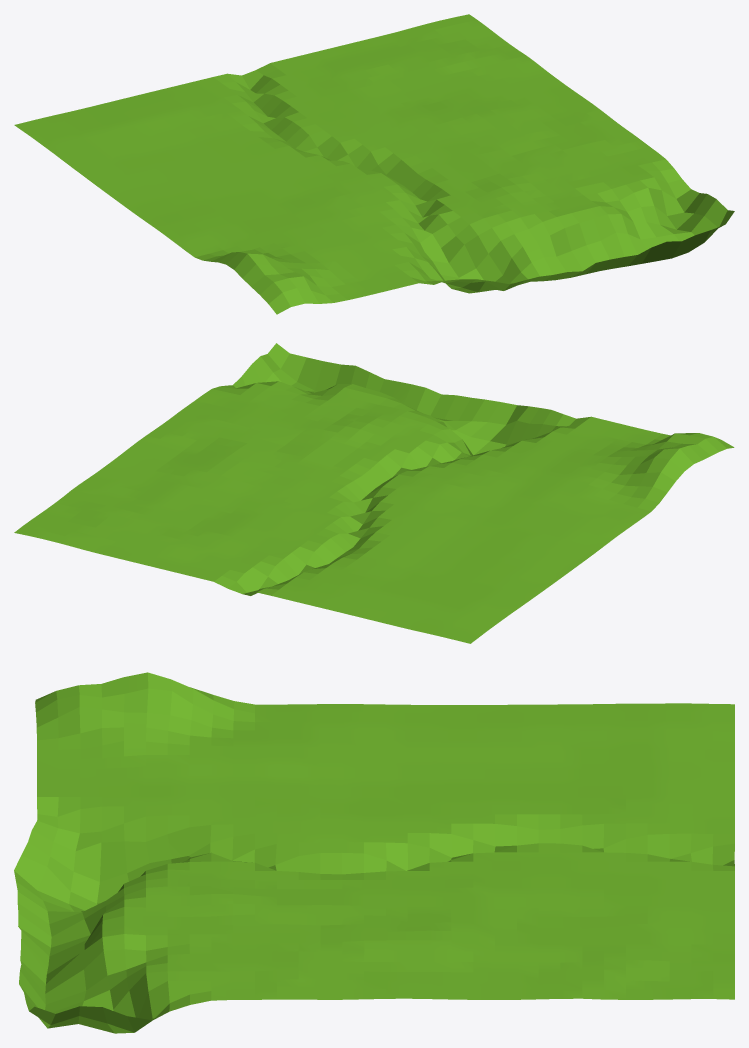
Rendered from LowpolyTerrain.fbx.
3 renders of one model, top to bottom at view 1: azimuth 30°, elevation 25°; view 2: azimuth 150°, elevation 25°; view 3: azimuth 270°, elevation 25°, orthographic. The views are drawn at different scales.
Parts seen in each view (by area): view 1: LowpolyTerrain; view 2: LowpolyTerrain; view 3: LowpolyTerrain.
Boxes of the visible parts, bbox=[...] form: LowpolyTerrain: bbox=[14, 14, 734, 314]; LowpolyTerrain: bbox=[14, 343, 734, 643]; LowpolyTerrain: bbox=[14, 672, 734, 1033].
Size of the model in its own units: 10099 by 1607 by 10328.
